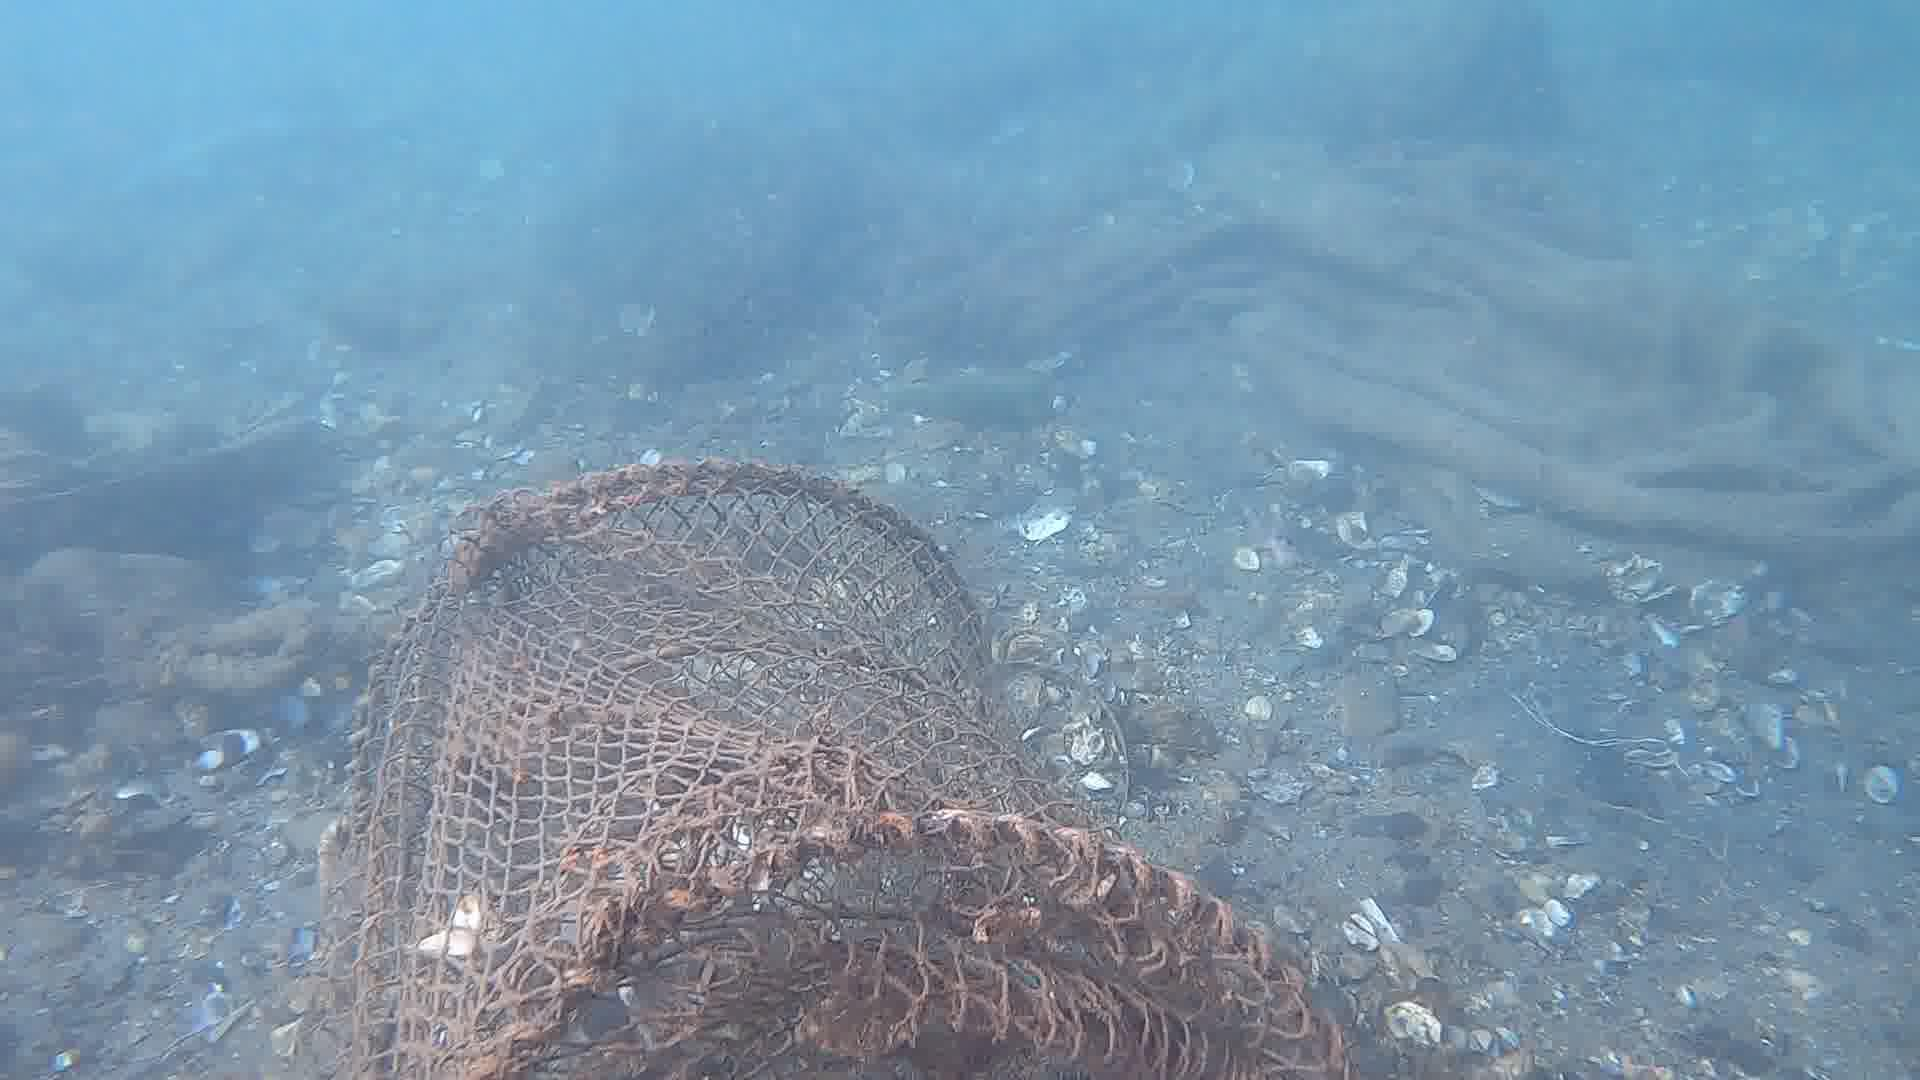spring fish trap: (302, 459, 1350, 1080)
